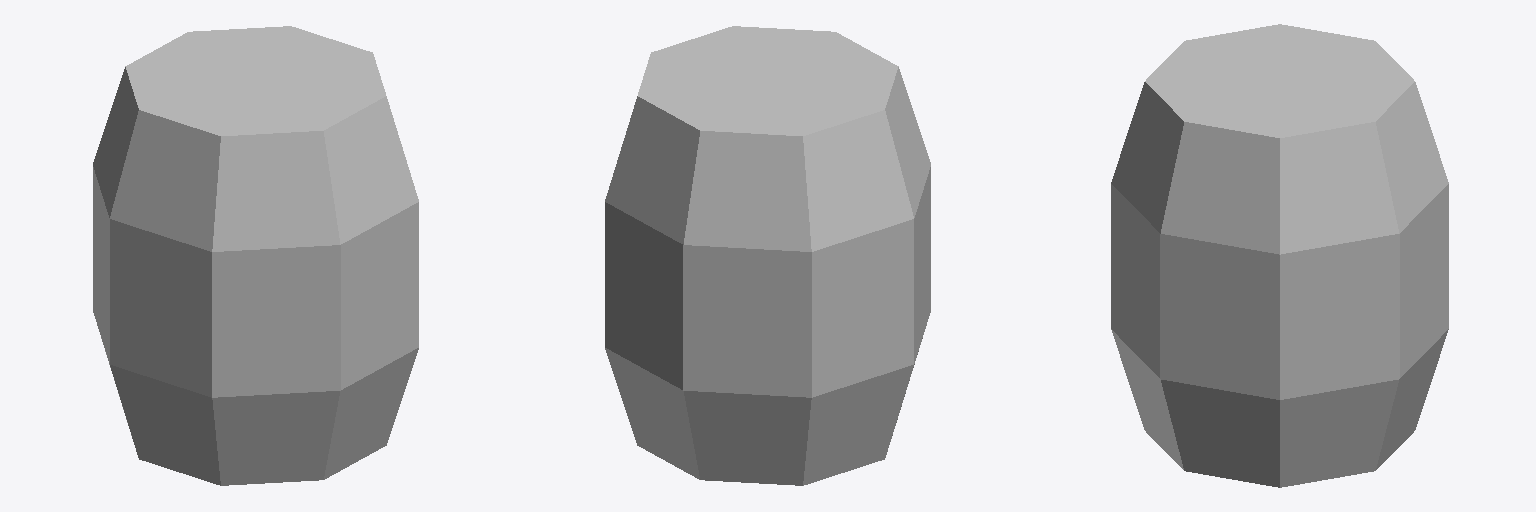
Rendered from orcbarrel03.obj.
3 views of the same model, side by side, from view 1: azimuth 30°, elevation 25°; view 2: azimuth 150°, elevation 25°; view 3: azimuth 270°, elevation 25° (orthographic).
Visible parts, largest first — view 1: OrcBarrel03; view 2: OrcBarrel03; view 3: OrcBarrel03.
Part boxes in pixels (x1,y1,x2,y2): OrcBarrel03: (93,26,418,485); OrcBarrel03: (605,26,930,485); OrcBarrel03: (1111,24,1448,487).
Size of the model in its own units: 1.72 by 1.96 by 1.72.